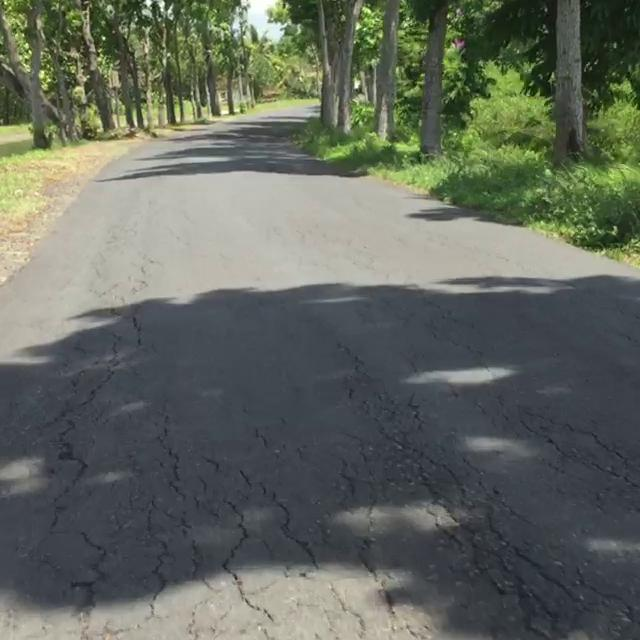retak_kulit_buaya: (27, 398, 640, 640), (571, 464, 640, 615)
